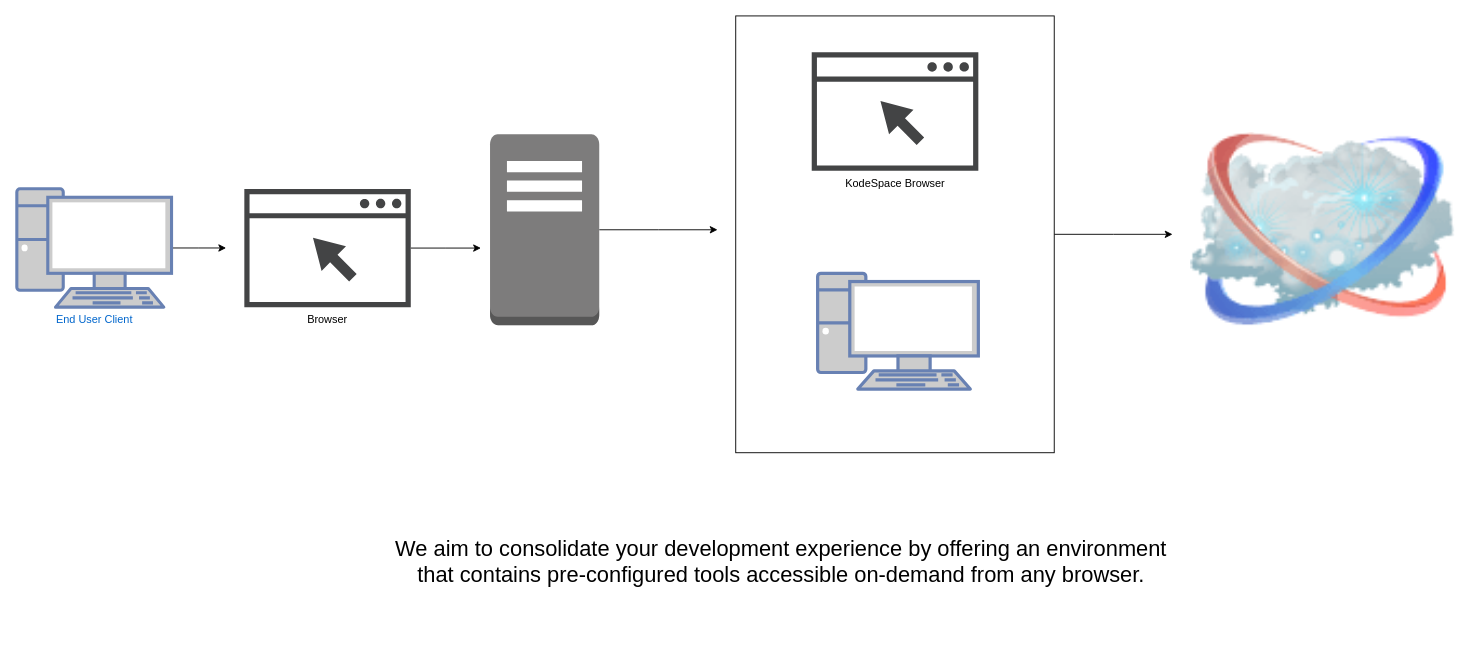
Some shapes in this 1470 by 660 pixel diagram are drawn without their labels. Here are the shapes that lost their labels. From the top down, the box of each, then its label:
(489, 133, 599, 325): KodeSPACE Server
(816, 272, 979, 389): KodeSPACE
